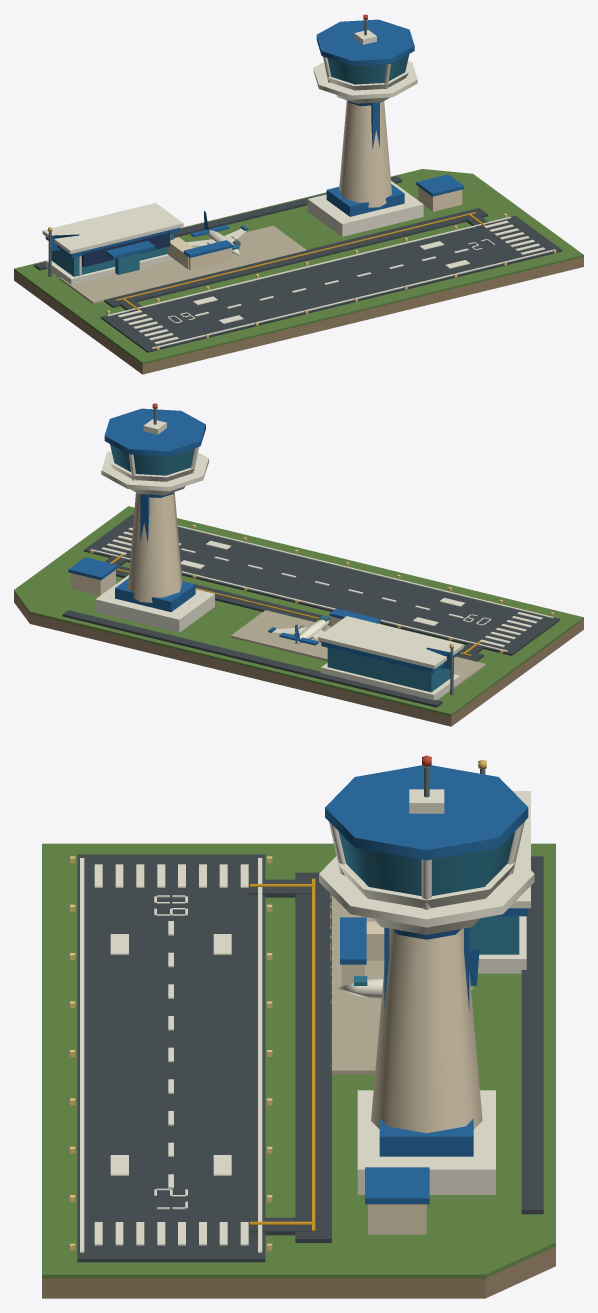
File: airport-lv1.glb
The picture shows the model from 3 angles, top to bottom: view 1: azimuth 30°, elevation 25°; view 2: azimuth 150°, elevation 25°; view 3: azimuth 270°, elevation 25°; orthographic projection. The views are drawn at different scales.
Visible parts, largest first — view 1: runway_airportAsphalt, foundation_grass, foundation_stoneDark, apron_paving, control_tower_cream, taxiway_airportAsphalt, terminal_roof_white, control_room_roof_airportTeam, control_tower_base_white, runway_edge_lines_white, control_room_glass, tower_balcony_white (+13 smaller); view 2: foundation_grass, runway_airportAsphalt, foundation_stoneDark, control_tower_cream, terminal_roof_white, control_room_roof_airportTeam, access_road_airportAsphalt, apron_paving, control_tower_base_white, terminal_glass, runway_edge_lines_white, control_room_glass (+11 smaller); view 3: runway_airportAsphalt, foundation_grass, control_tower_cream, control_room_roof_airportTeam, taxiway_airportAsphalt, foundation_stoneDark, access_road_airportAsphalt, control_tower_base_white, control_room_glass, apron_paving, tower_balcony_white, runway_edge_lines_white (+18 smaller).
Part boxes in pixels (bbox=[...]): runway_airportAsphalt: bbox=[100, 215, 562, 352]; foundation_grass: bbox=[14, 169, 583, 364]; foundation_stoneDark: bbox=[14, 257, 583, 374]; apron_paving: bbox=[59, 225, 306, 304]; control_tower_cream: bbox=[339, 100, 391, 207]; taxiway_airportAsphalt: bbox=[104, 208, 488, 307]; terminal_roof_white: bbox=[42, 203, 183, 254]; control_room_roof_airportTeam: bbox=[316, 19, 414, 65]; control_tower_base_white: bbox=[307, 181, 423, 236]; runway_edge_lines_white: bbox=[107, 216, 554, 348]; control_room_glass: bbox=[327, 54, 409, 84]; tower_balcony_white: bbox=[313, 61, 417, 99]; foundation_grass: bbox=[14, 506, 583, 716]; runway_airportAsphalt: bbox=[84, 514, 560, 655]; foundation_stoneDark: bbox=[14, 592, 583, 726]; control_tower_cream: bbox=[128, 492, 182, 602]; terminal_roof_white: bbox=[318, 616, 463, 668]; control_room_roof_airportTeam: bbox=[104, 408, 205, 456]; access_road_airportAsphalt: bbox=[62, 610, 442, 707]; apron_paving: bbox=[230, 610, 485, 689]; control_tower_base_white: bbox=[95, 575, 214, 632]; terminal_glass: bbox=[327, 648, 453, 692]; runway_edge_lines_white: bbox=[91, 525, 553, 651]; control_room_glass: bbox=[110, 444, 194, 475]; runway_airportAsphalt: bbox=[77, 854, 265, 1262]; foundation_grass: bbox=[42, 843, 555, 1278]; control_tower_cream: bbox=[371, 928, 482, 1133]; control_room_roof_airportTeam: bbox=[325, 765, 528, 860]; taxiway_airportAsphalt: bbox=[295, 872, 331, 1242]; foundation_stoneDark: bbox=[42, 1246, 555, 1298]; access_road_airportAsphalt: bbox=[521, 856, 543, 1214]; control_tower_base_white: bbox=[357, 1090, 495, 1194]; control_room_glass: bbox=[338, 831, 514, 895]; apron_paving: bbox=[330, 894, 384, 1074]; tower_balcony_white: bbox=[319, 856, 534, 927]; runway_edge_lines_white: bbox=[80, 858, 262, 1252].
Size of the model in its own units: 1 by 0.4588 by 0.5043.
